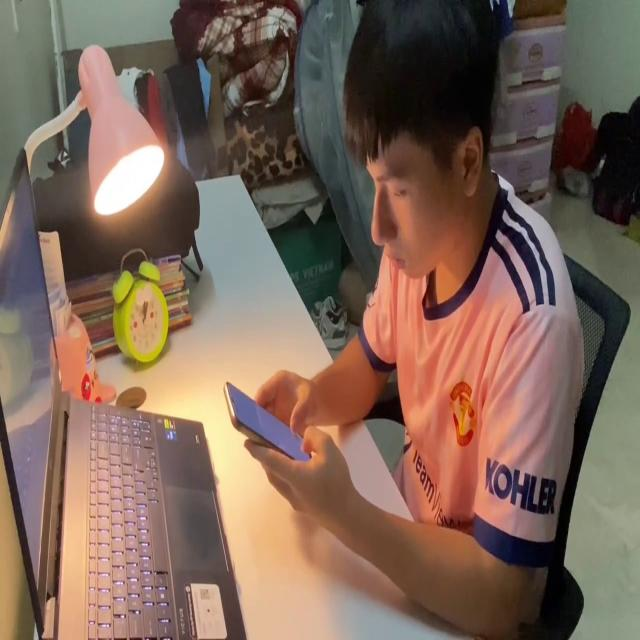laptop: (0, 144, 248, 640)
phone: (221, 368, 313, 472)
student: (248, 0, 580, 640)
